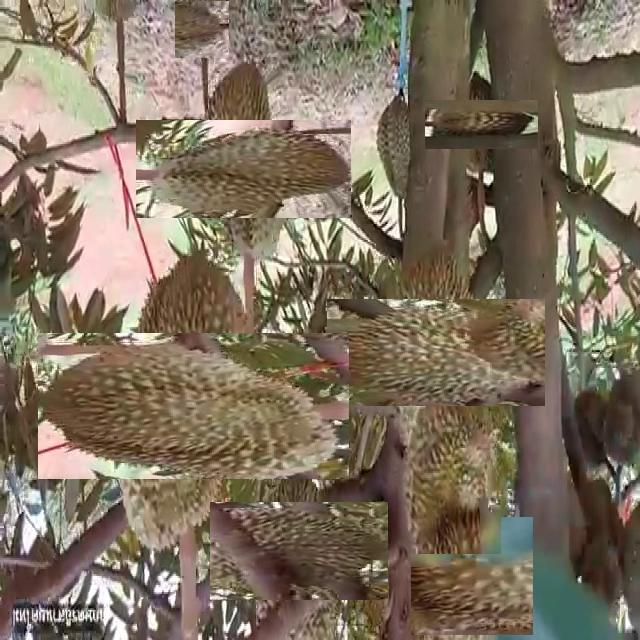durian: (79, 292, 308, 521), (354, 271, 518, 435), (165, 90, 322, 248), (230, 481, 369, 620), (399, 377, 501, 554), (411, 516, 532, 636), (441, 83, 522, 165), (372, 91, 422, 204), (173, 0, 230, 58)
